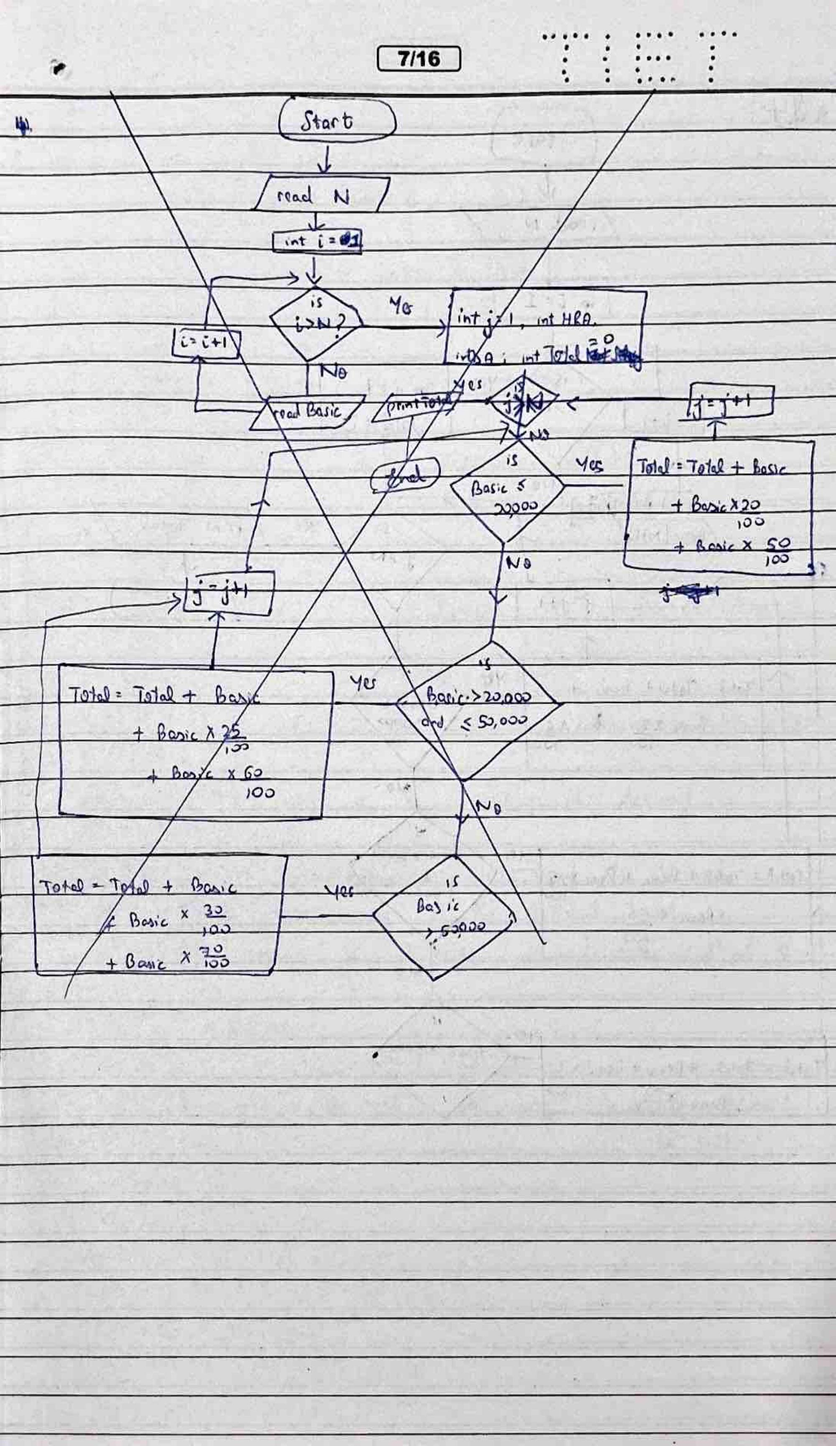cuttings: (29, 84, 817, 1001)
